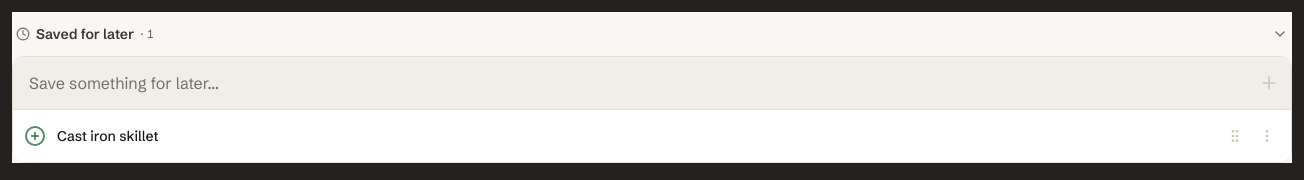
Test: SavedForLaterShoppingSection › collapses the content region without unmounting it (aria-controls stays valid)
Step 1. Click the button "Saved for later · 1" → (85, 34), box [12, 12, 1292, 56]
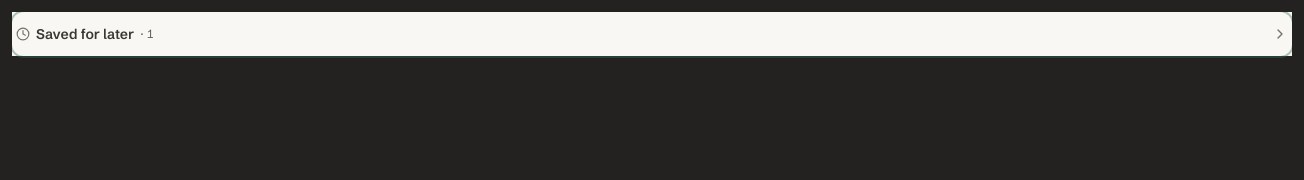
Expected: the button "Saved for later · 1" is collapsed, [12, 12, 1292, 56]
